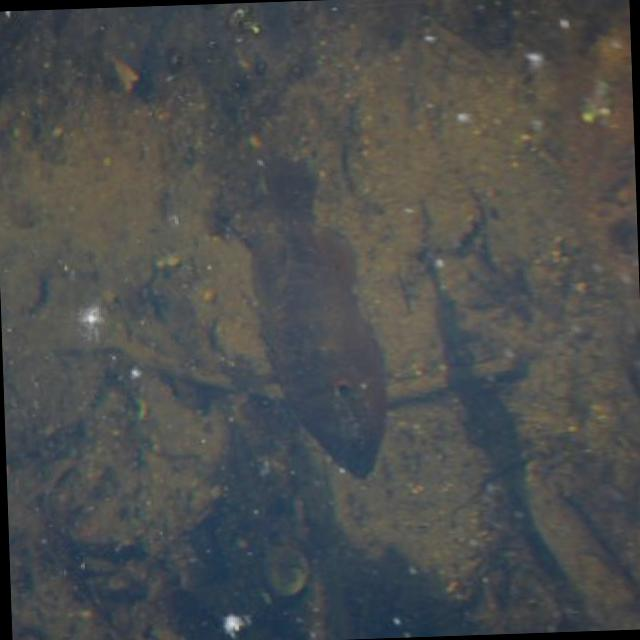Gunes Levregi: (252, 140, 398, 482)
